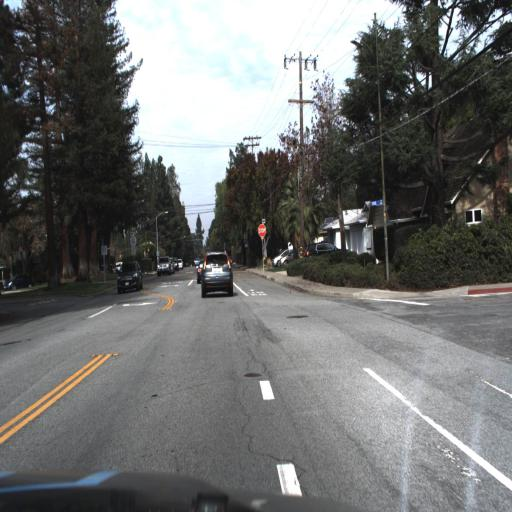car: (200, 250, 237, 301), (115, 257, 141, 296), (300, 238, 340, 263), (116, 259, 143, 293), (302, 237, 343, 259), (3, 272, 41, 290), (4, 273, 37, 291), (279, 246, 299, 271), (155, 253, 174, 278), (271, 248, 288, 270)
